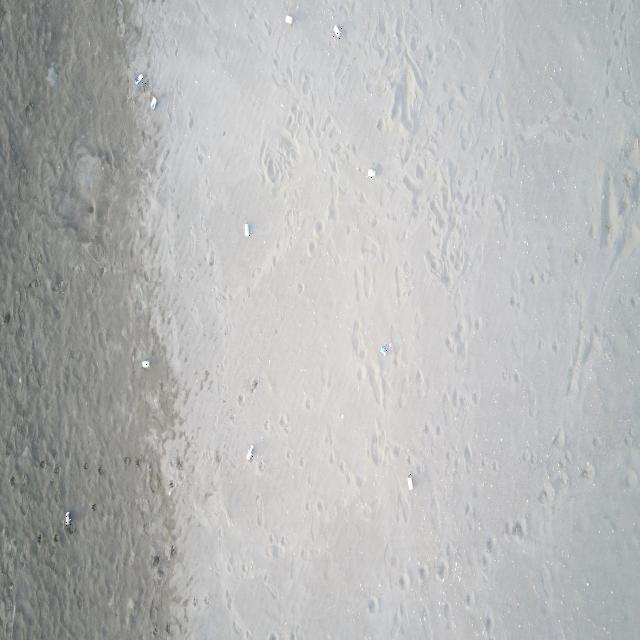tin-and-aluminum-cans: (332, 25, 343, 40), (134, 73, 146, 86), (246, 444, 254, 462), (406, 473, 413, 492), (244, 221, 251, 238), (141, 359, 151, 370), (284, 14, 294, 25), (150, 94, 156, 112), (379, 346, 388, 358), (366, 168, 376, 178), (66, 511, 72, 526)
